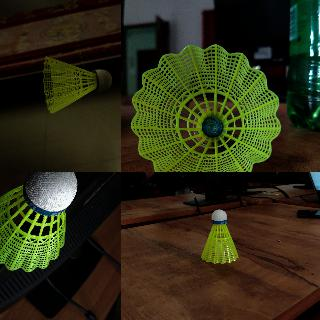shuttlecock: (129, 44, 283, 171), (0, 172, 78, 272), (42, 56, 112, 114), (201, 208, 239, 264)
